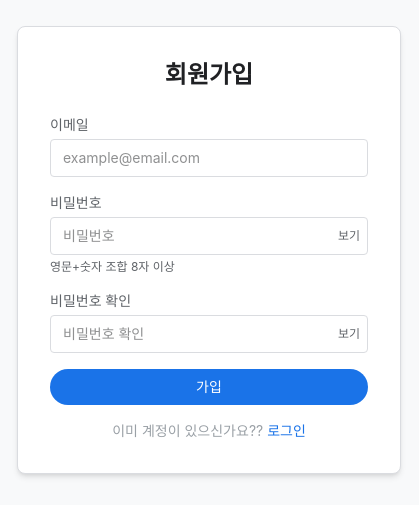
Test: RegisterPage › 비밀번호 8자 미만 입력 시 오류 메시지를 표시한다
This screenshot has width=419, height=505.
In the field labelled "이메일": (209, 158) [50,139,368,177], type "test@example.com"
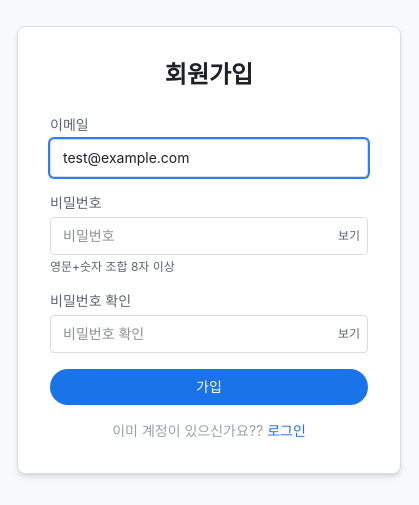
In the password field labelled "비밀번호": (209, 236) [50,217,368,255], type "abc12"
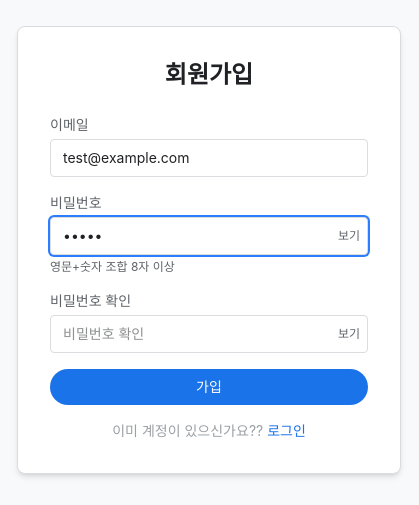
In the password field labelled "비밀번호 확인": (209, 334) [50,315,368,353], type "abc12"
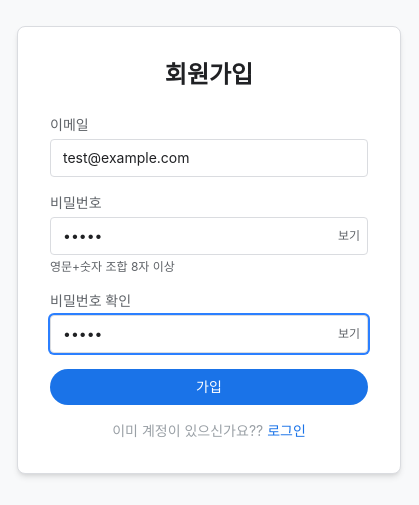
Click the button "가입": (209, 387) [50,369,368,405]
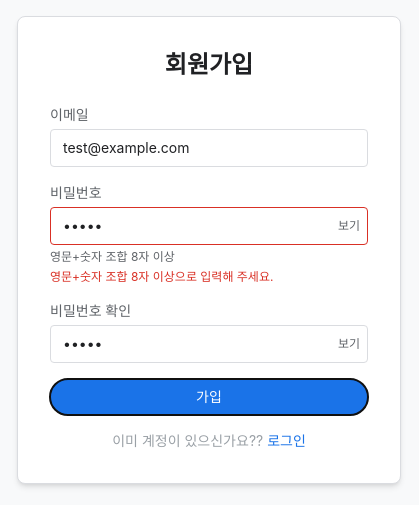
Expected: the text "영문+숫자 조합 8자 이상으로 입력해 주세요." is shown, [50,269,273,284]
